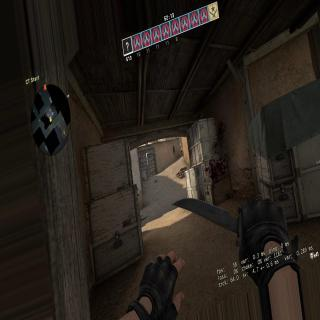CT-Body: (172, 145, 175, 156)
CT-Head: (173, 145, 174, 147)
